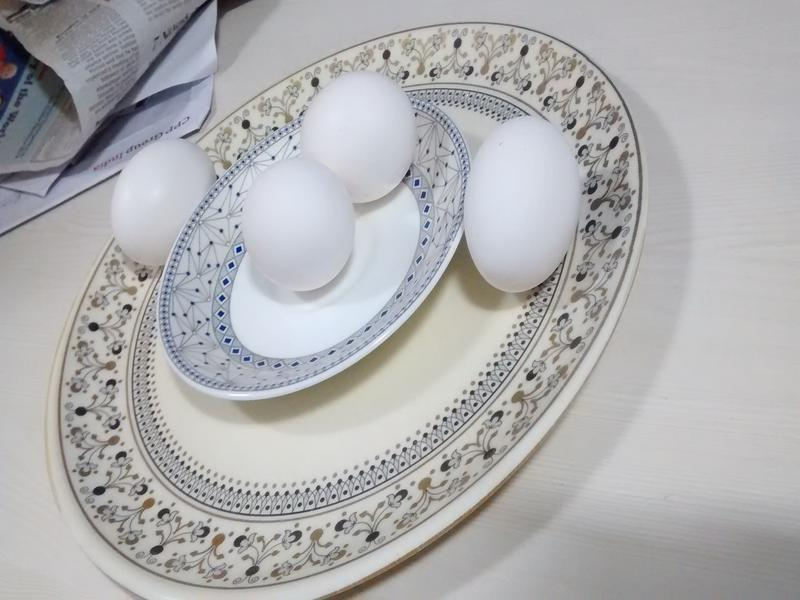egg: (240, 153, 356, 291)
